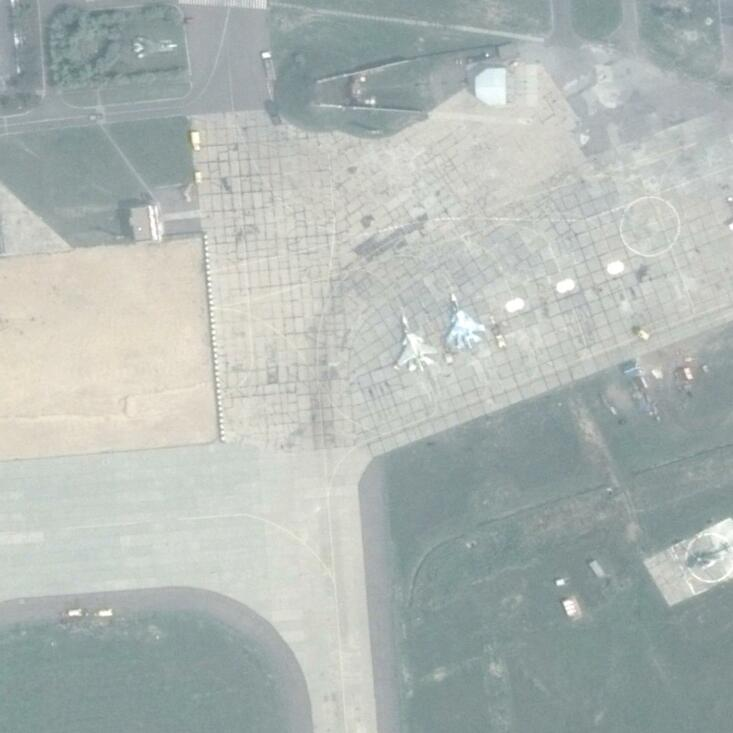A19: (390, 313, 439, 376), (441, 292, 487, 354)
